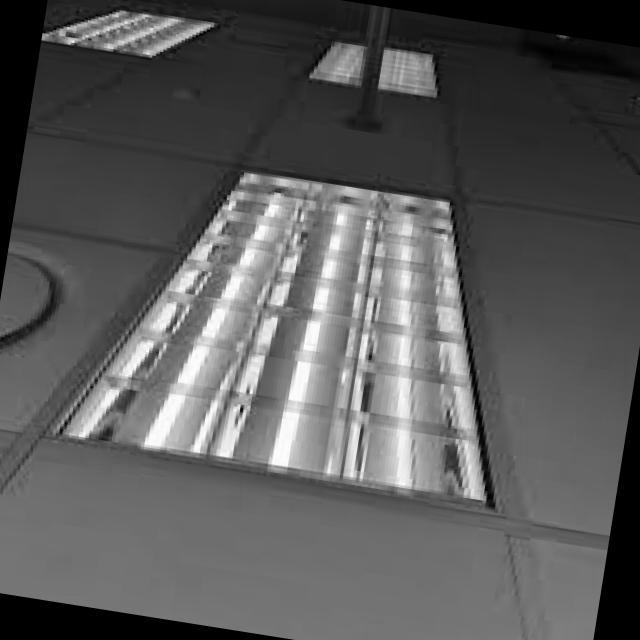light: (48, 160, 502, 515), (307, 38, 440, 99), (42, 13, 224, 56)
